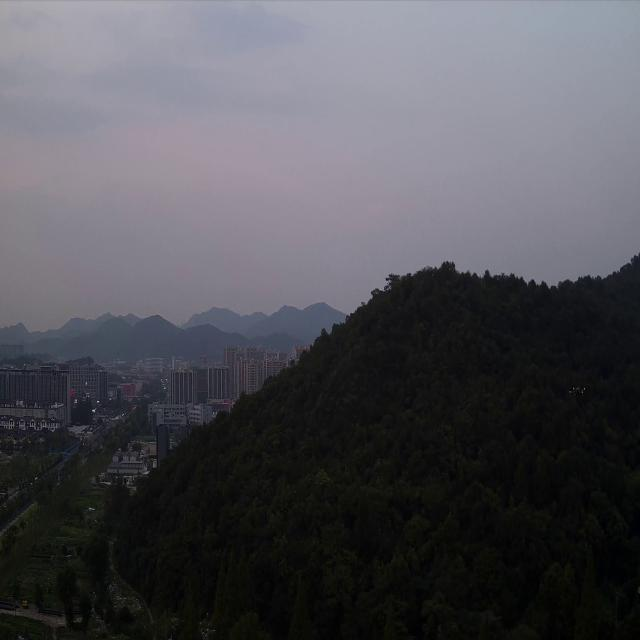UAV: (568, 384, 586, 398)
